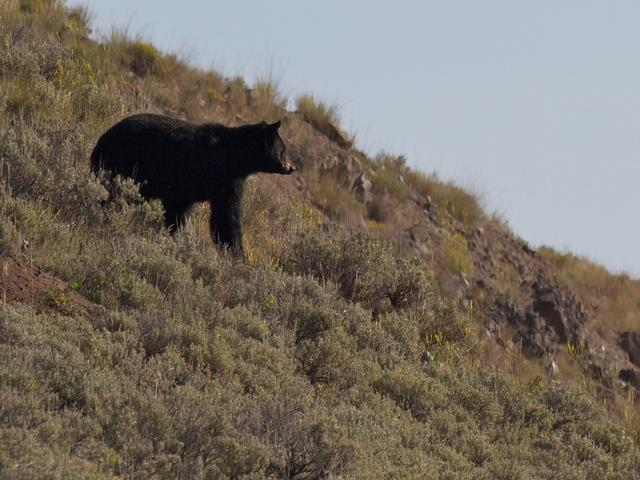bear: (65, 90, 301, 245)
